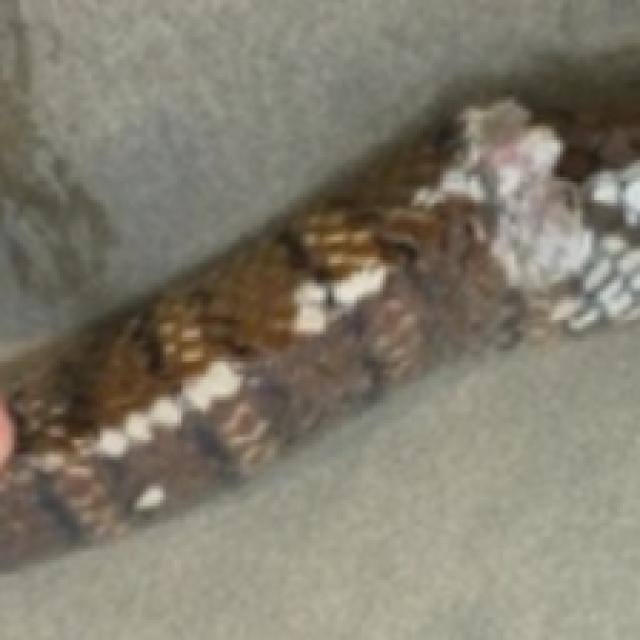king cobra: (0, 100, 637, 563)
